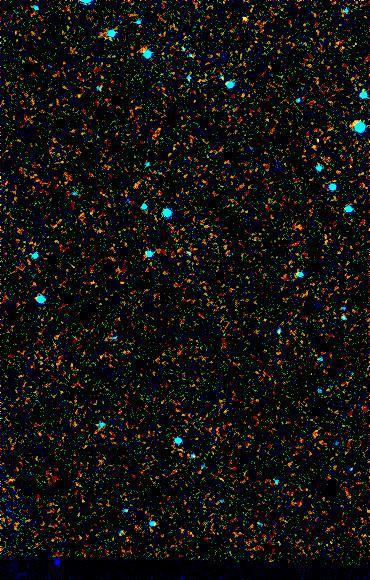star: (228, 4, 258, 34)
